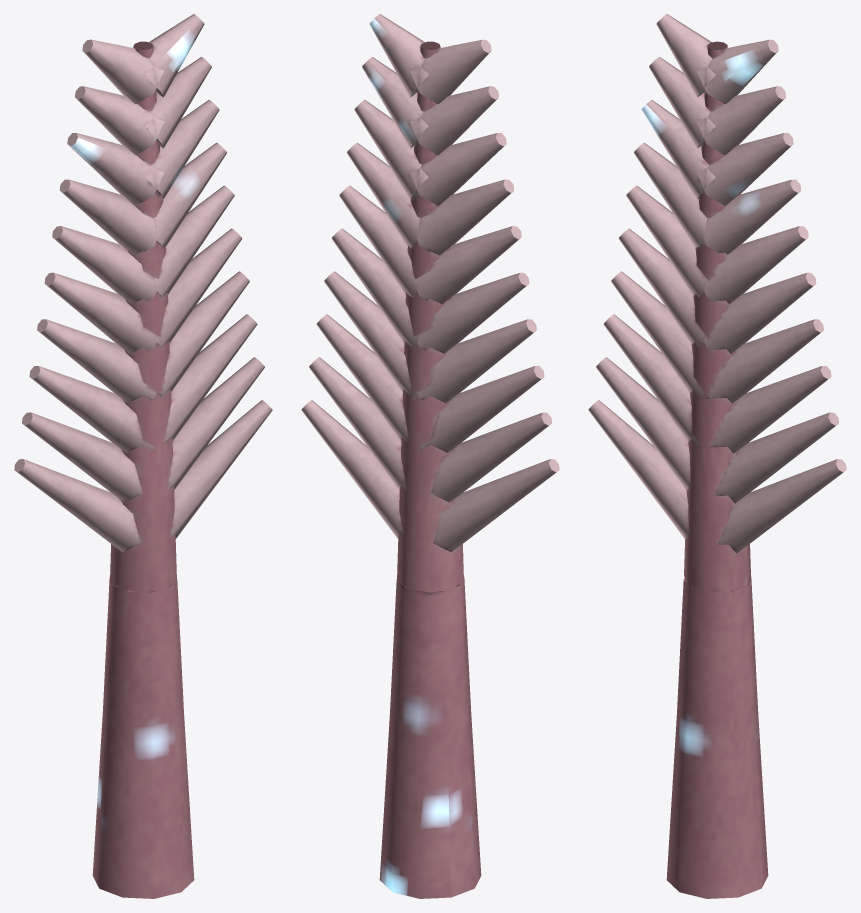
Rendered from pennatula_phosphorea.glb.
3 views of the same model, side by side, from view 1: azimuth 30°, elevation 25°; view 2: azimuth 150°, elevation 25°; view 3: azimuth 330°, elevation 25° (orthographic).
Parts seen in each view (by area): view 1: pennatula_phosphorea; view 2: pennatula_phosphorea; view 3: pennatula_phosphorea.
Part boxes in pixels (bbox=[...]): pennatula_phosphorea: bbox=[14, 14, 272, 898]; pennatula_phosphorea: bbox=[301, 14, 559, 898]; pennatula_phosphorea: bbox=[588, 14, 846, 898].
Size of the model in its own units: 0.1989 by 0.634 by 0.0656.
2 materials, 2 textured.
